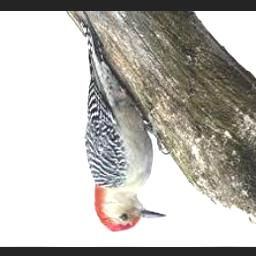Woodpecker: (69, 12, 166, 232)
